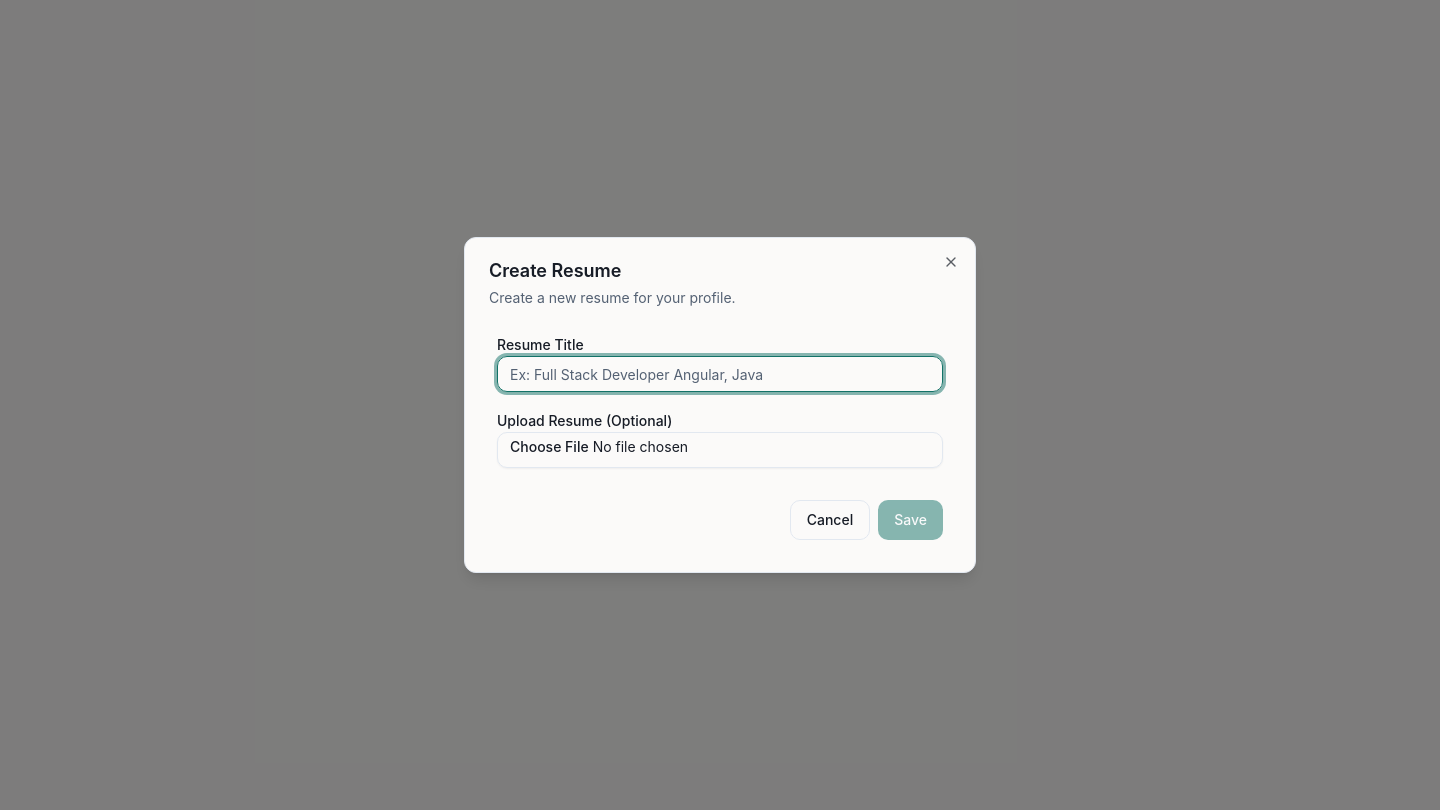
Scenario: CreateResume Component › should display validation errors when form is invalid
In the field with test id "resume-title-input": (720, 374) left=497, top=356, right=943, bottom=392, type "Temporary Title"
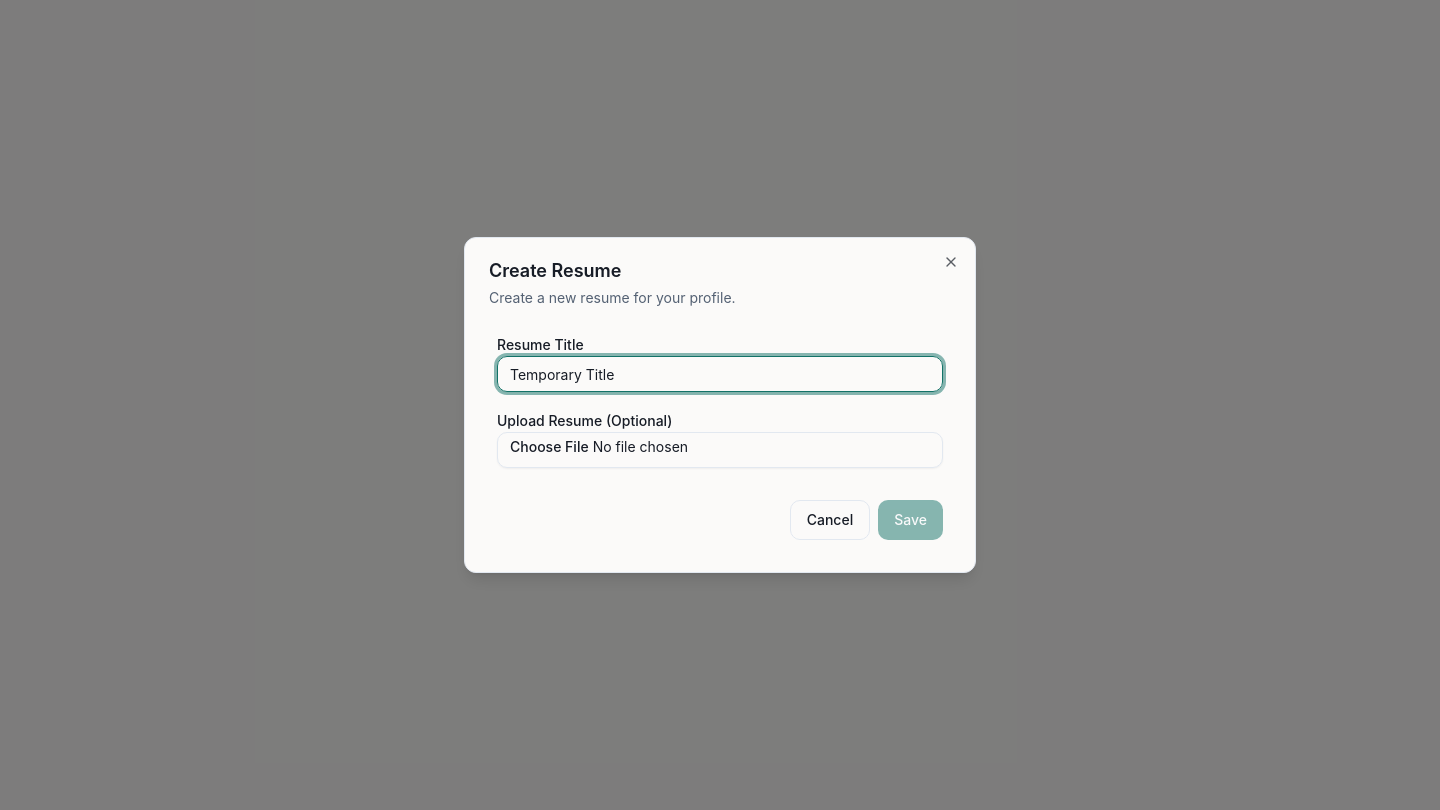
Clear the field with test id "resume-title-input": (720, 374) left=497, top=356, right=943, bottom=392
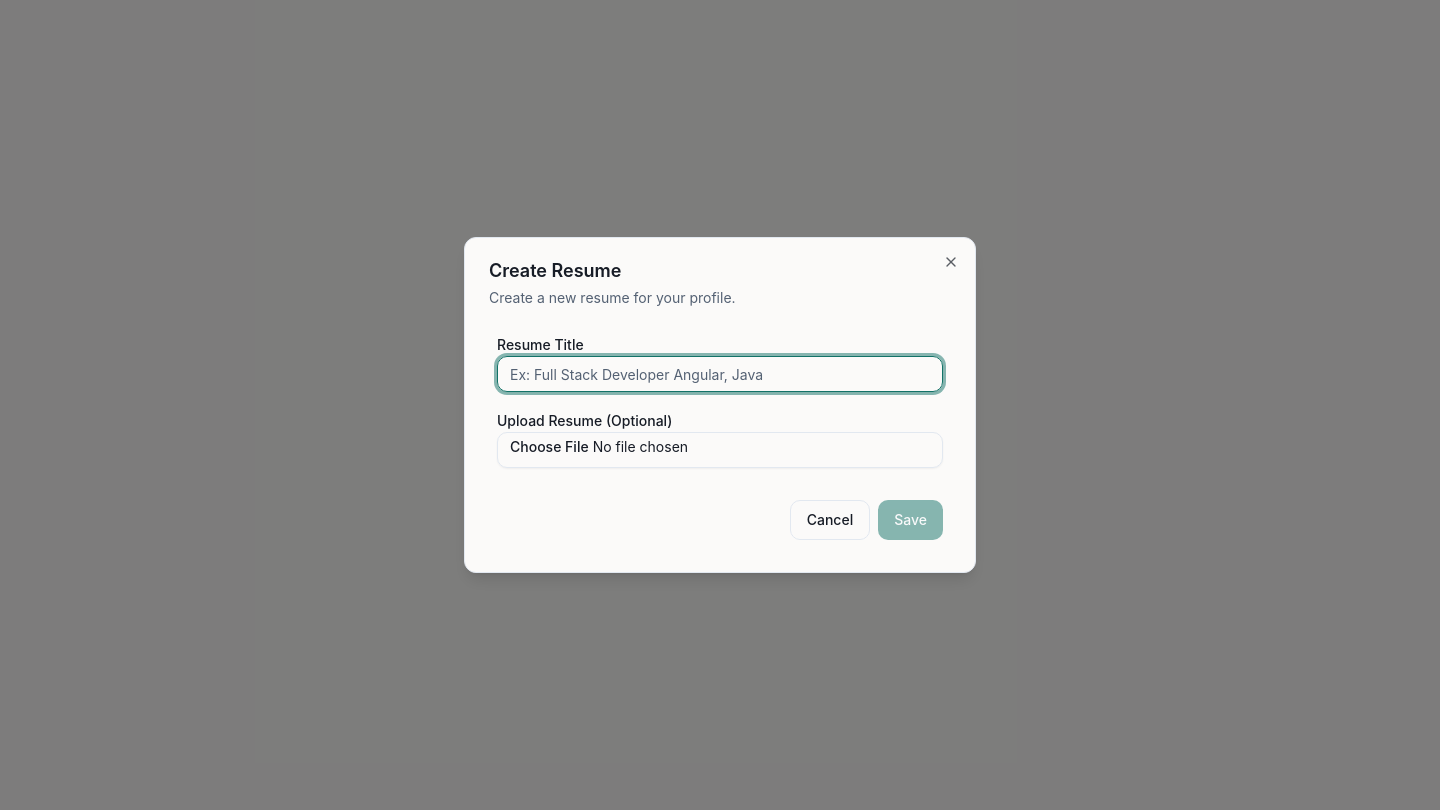
Click the button "Save": (911, 520) left=878, top=500, right=943, bottom=540
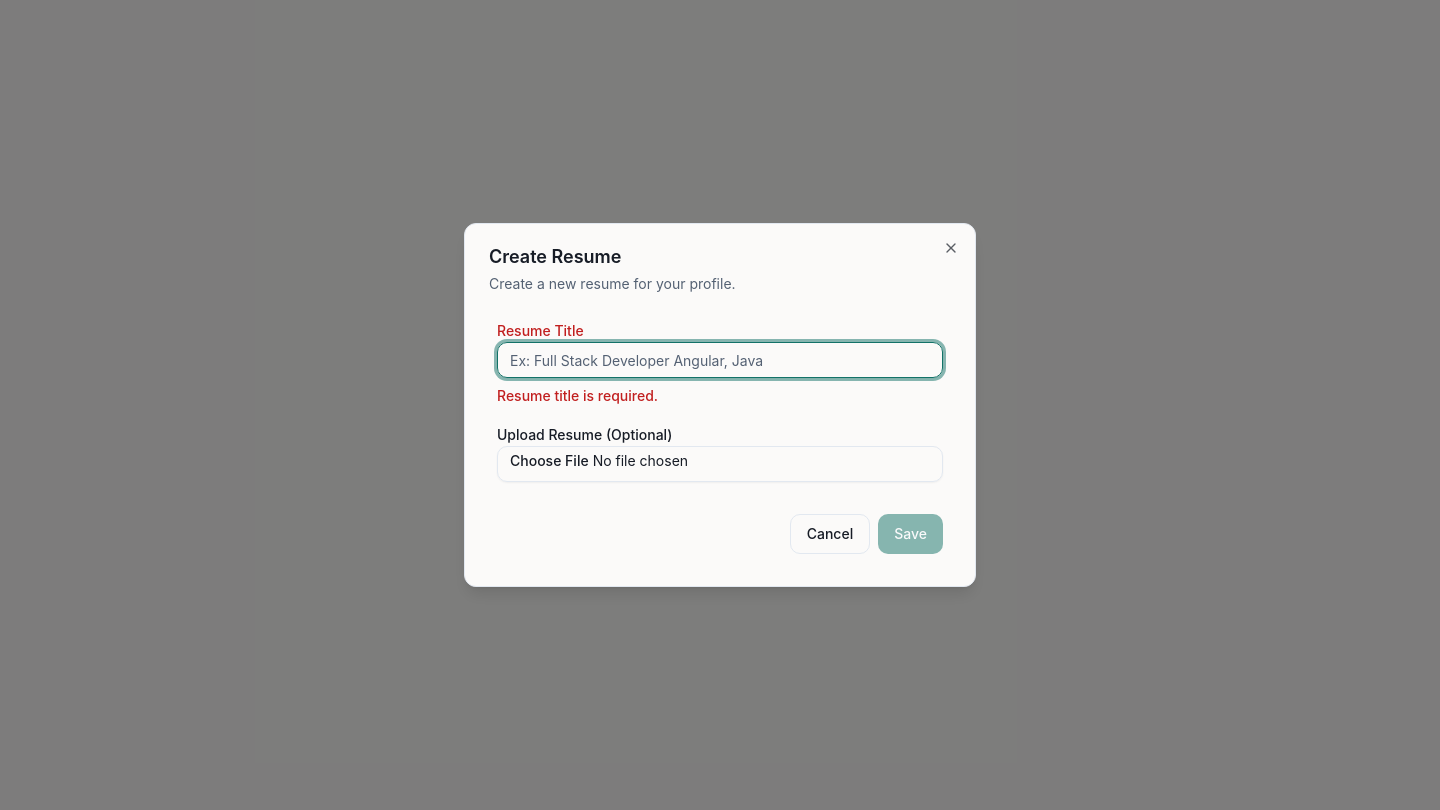
Check: the text "Resume title is required." is shown, box left=497, top=387, right=658, bottom=404
